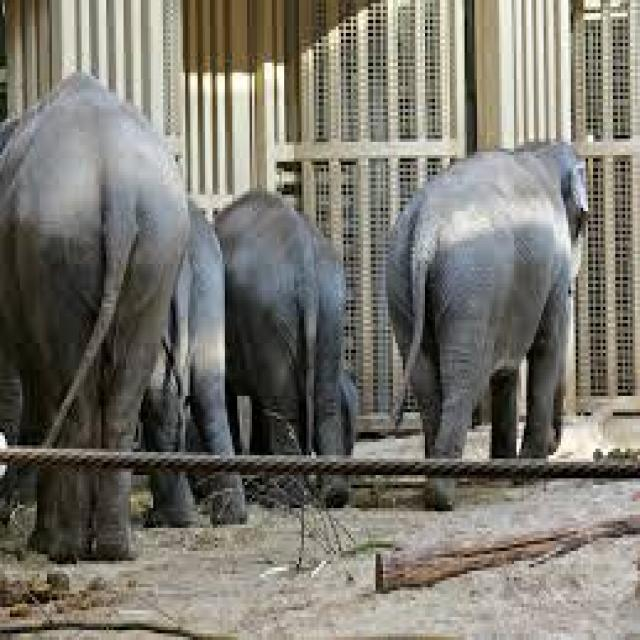Elephant: (383, 132, 600, 465), (0, 66, 166, 439), (215, 188, 368, 452)
